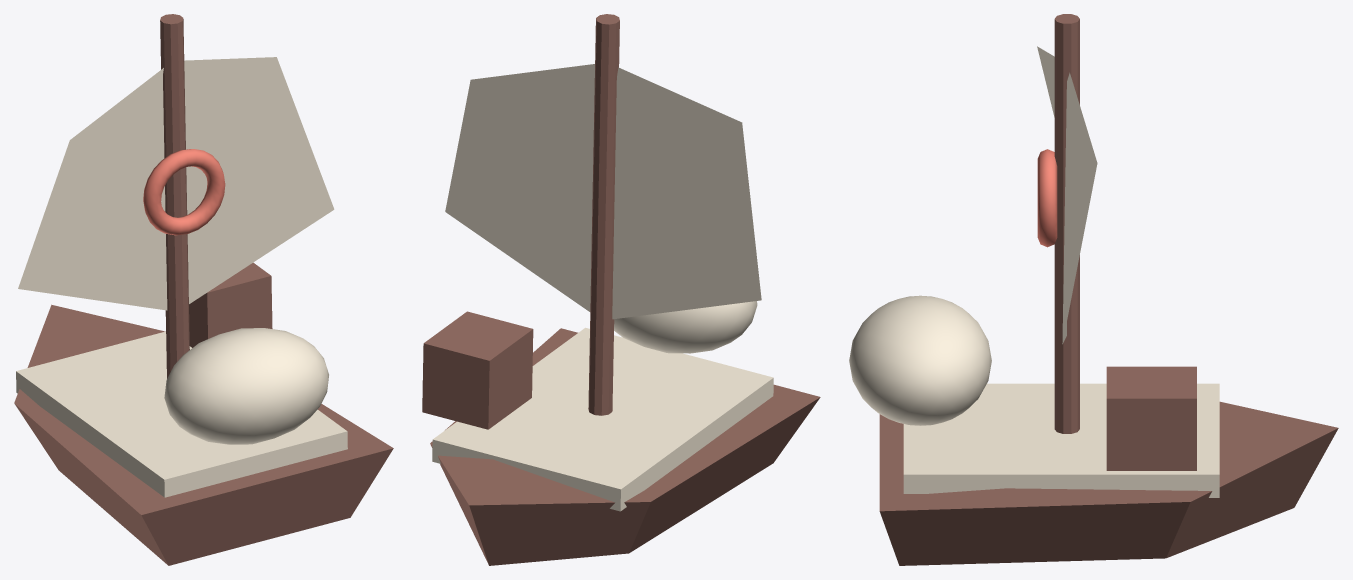
File: colonizer.glb
The picture shows the model from 3 angles, left to right: view 1: azimuth 30°, elevation 25°; view 2: azimuth 150°, elevation 25°; view 3: azimuth 270°, elevation 25°; orthographic projection. The views are drawn at different scales.
Parts seen in each view (by area): view 1: Distinctive sail, Carved hull, Pearl deck, Nacre shell, Mast, Settlement crates, Crown shell emblem; view 2: Distinctive sail, Pearl deck, Carved hull, Settlement crates, Mast, Nacre shell; view 3: Carved hull, Pearl deck, Nacre shell, Settlement crates, Mast, Distinctive sail, Crown shell emblem.
Boxes of the visible parts, x1,y1,x2,y2 form: Distinctive sail: (18, 57, 334, 310); Carved hull: (14, 304, 393, 565); Pearl deck: (16, 331, 347, 497); Nacre shell: (164, 328, 328, 444); Mast: (160, 14, 189, 378); Settlement crates: (189, 262, 272, 347); Crown shell emblem: (143, 149, 225, 235); Distinctive sail: (445, 64, 761, 319); Pearl deck: (432, 327, 773, 511); Carved hull: (430, 328, 820, 565); Settlement crates: (422, 311, 533, 429); Mast: (588, 14, 619, 415); Nacre shell: (614, 301, 757, 353); Carved hull: (879, 401, 1338, 565); Pearl deck: (903, 383, 1219, 497); Nacre shell: (849, 295, 991, 425); Settlement crates: (1106, 366, 1196, 470); Mast: (1054, 14, 1079, 433); Distinctive sail: (1037, 46, 1097, 344); Crown shell emblem: (1037, 149, 1057, 247).
Bounding box in the file's own units: 1.36 × 1.95 × 1.74.
